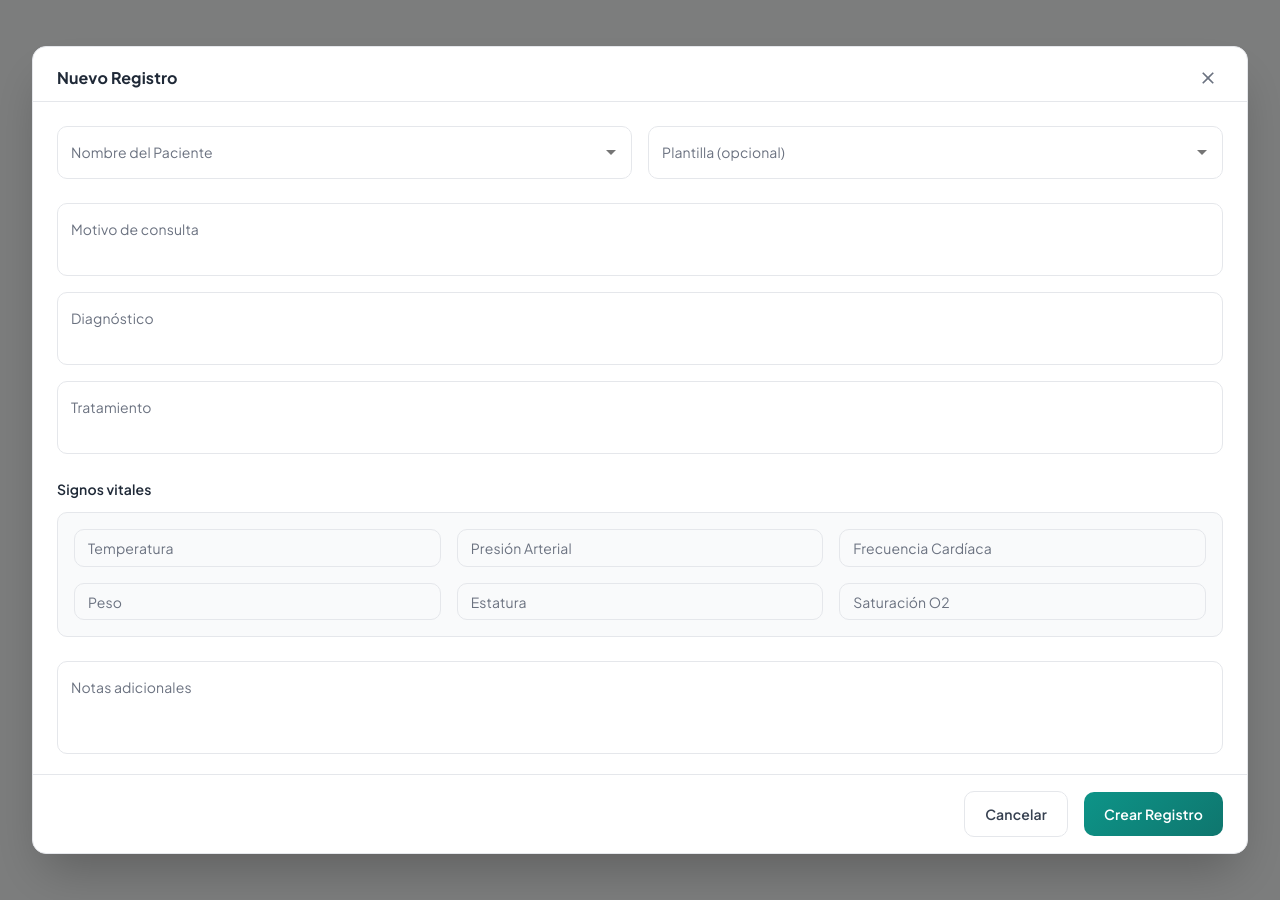
Test: ClinicalRecordFormDialog › validates required fields on empty submit
The image size is (1280, 900).
Click the button "Crear Registro". click: point(1154, 814)
box: [1084,792,1223,836]
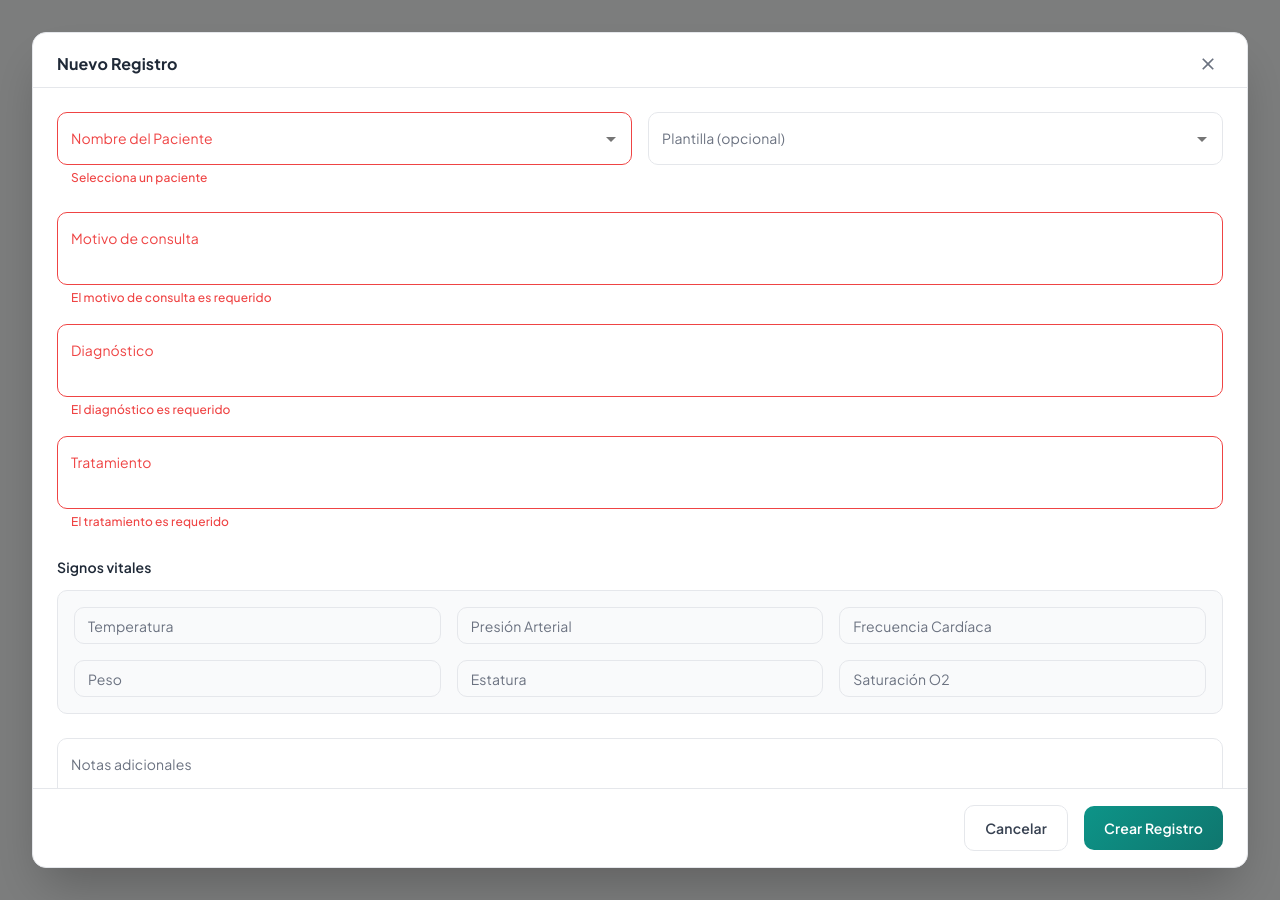
Check: the text "Selecciona un paciente" is shown, box [71,170,208,185]
Check: the text "El motivo de consulta es requerido" is shown, box [71,290,272,305]
Check: the text "El diagnóstico es requerido" is shown, box [71,402,230,417]
